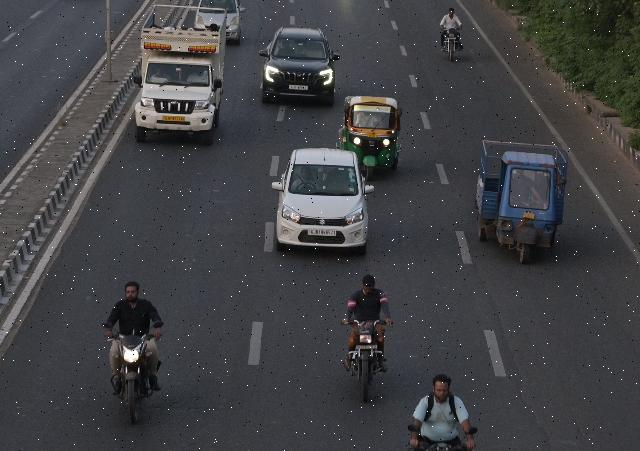Without Helmet: (428, 372, 456, 400), (123, 280, 141, 302), (360, 274, 376, 294), (448, 7, 454, 19)
